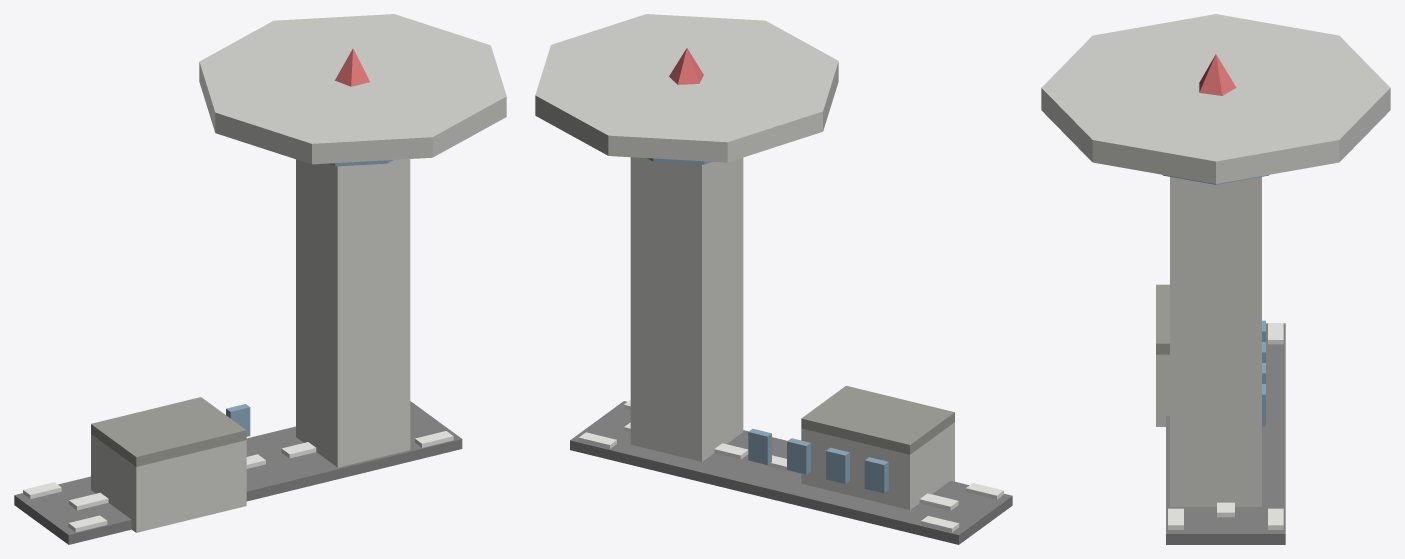
Rendered from building_airport.glb.
3 views of the same model, side by side, from view 1: azimuth 30°, elevation 25°; view 2: azimuth 150°, elevation 25°; view 3: azimuth 270°, elevation 25° (orthographic). The views are drawn at different scales.
Visible parts, largest first — view 1: building_airport; view 2: building_airport; view 3: building_airport.
Part boxes in pixels (<box>): building_airport: <box>14,14,506,544</box>; building_airport: <box>535,14,1012,544</box>; building_airport: <box>1041,14,1390,544</box>.
Bounding box in the file's own units: 0.565 × 0.492 × 0.35.
